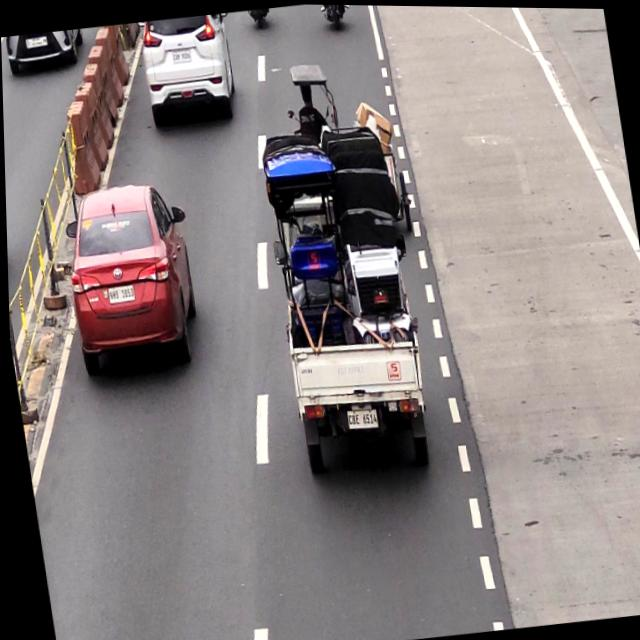Car: (54, 178, 200, 371), (137, 11, 239, 128)
License-Plate: (342, 405, 377, 431), (104, 281, 135, 302), (169, 47, 192, 64)
Truck: (257, 130, 429, 485)
